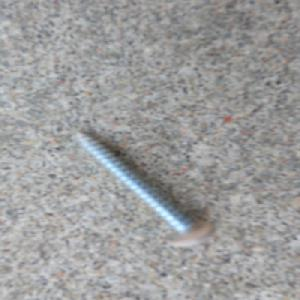Screw: (65, 125, 219, 249)
